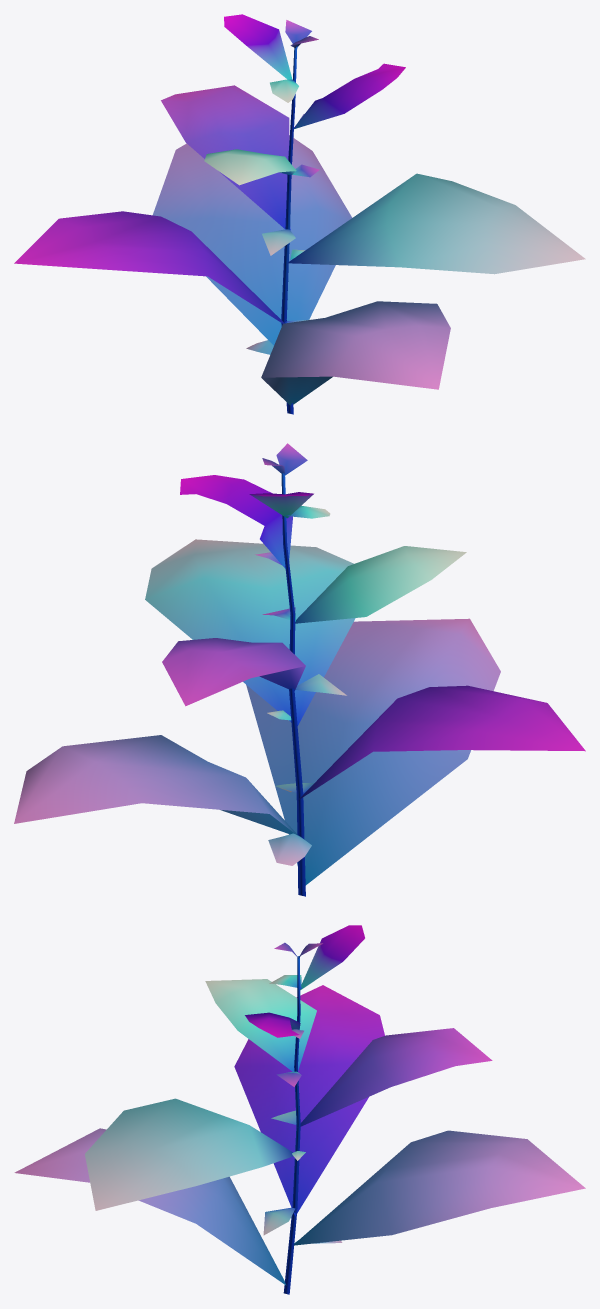
File: Greater Burdock_LOD3_Var3_xh5pdgiqx.fbx
3 views of the same model, one above another, from view 1: azimuth 30°, elevation 25°; view 2: azimuth 150°, elevation 25°; view 3: azimuth 270°, elevation 25° (orthographic). The views are drawn at different scales.
Parts seen in each view (by area): view 1: _t4dc_Var3_LOD3; view 2: _t4dc_Var3_LOD3; view 3: _t4dc_Var3_LOD3.
Part boxes in pixels (x1=…): _t4dc_Var3_LOD3: x1=14, y1=14, x2=585, y2=414; _t4dc_Var3_LOD3: x1=14, y1=443, x2=585, y2=896; _t4dc_Var3_LOD3: x1=14, y1=925, x2=585, y2=1294.
Bounding box in the file's own units: 74.23 × 59.03 × 85.87.
